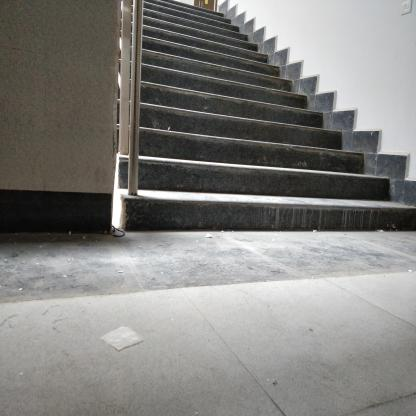stairs: (146, 9, 225, 241)
